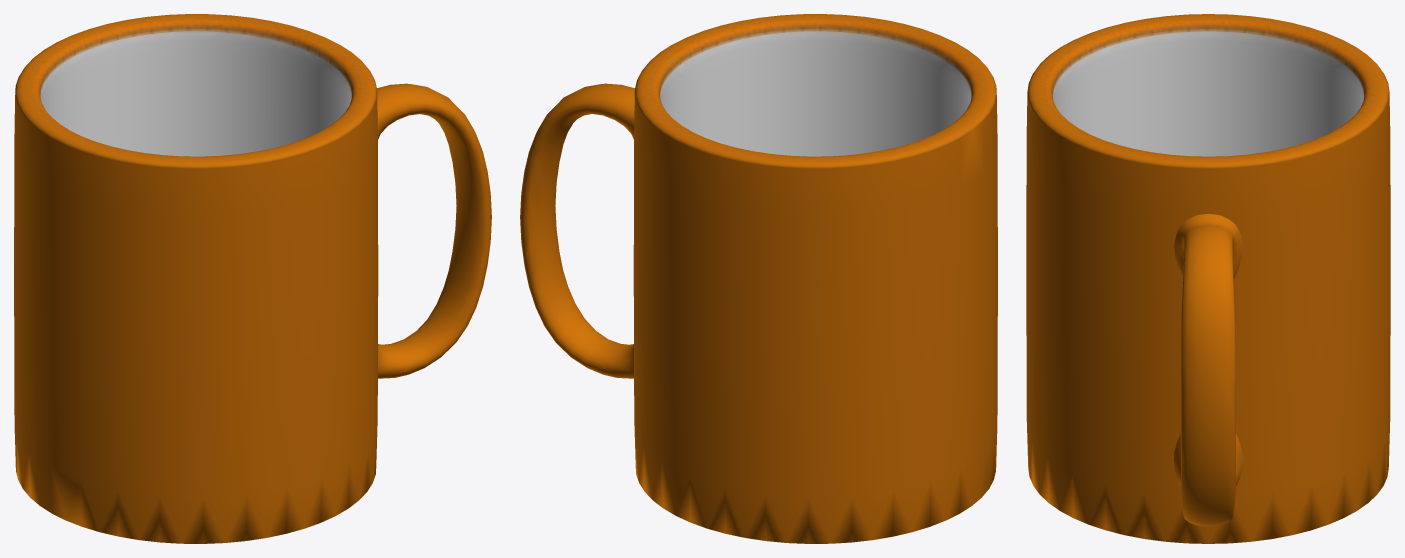
Rendered from st_mug.gltf.
3 views of the same model, side by side, from view 1: azimuth 30°, elevation 25°; view 2: azimuth 150°, elevation 25°; view 3: azimuth 270°, elevation 25° (orthographic).
Parts seen in each view (by area): view 1: mug, mug.001; view 2: mug, mug.001; view 3: mug, mug.001.
Boxes of the visible parts, x1,y1,x2,y2 form: mug: (14,14,378,543); mug.001: (377,83,491,378); mug: (633,14,997,543); mug.001: (520,83,634,378); mug: (1026,14,1390,543); mug.001: (1173,213,1242,526).
Bounding box in the file's own units: 0.1283 × 0.1047 × 0.0906.
Materials: 1 (1 with a texture image).
